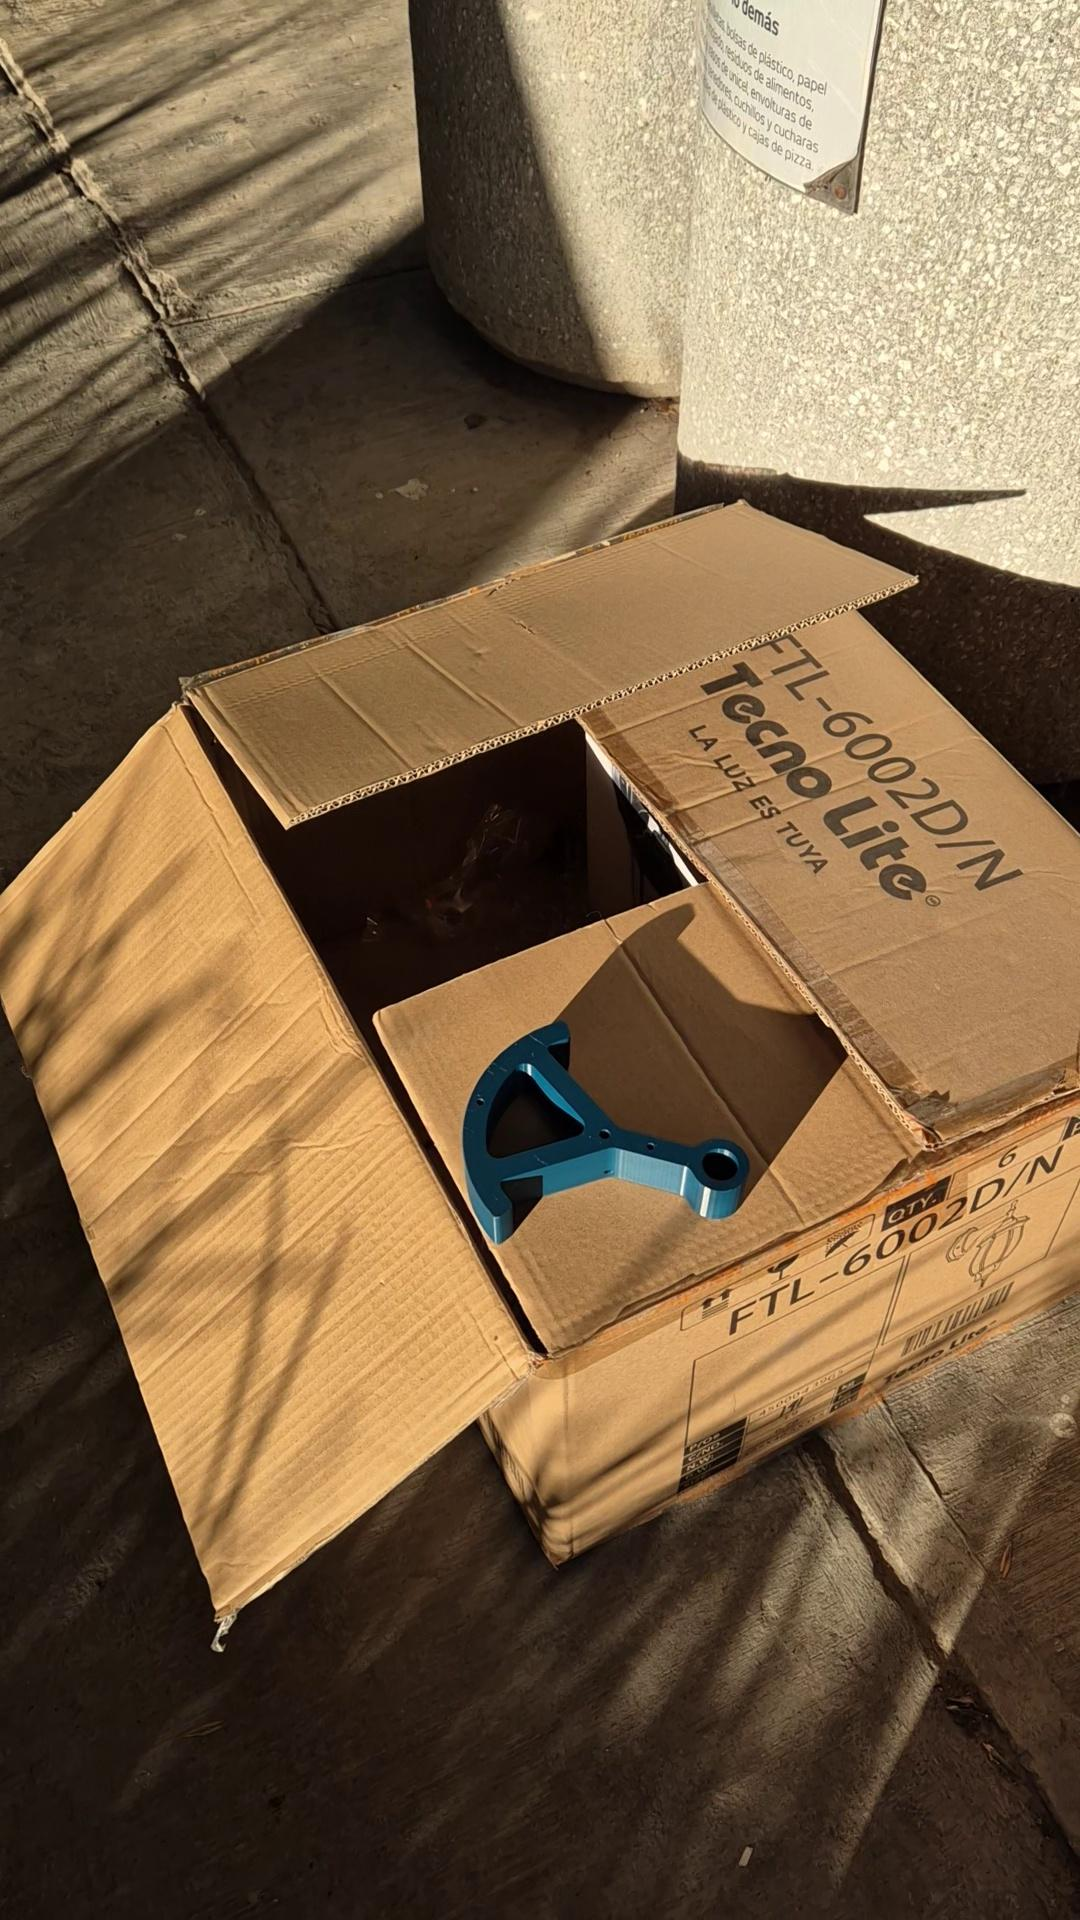Paddles: (459, 1019, 750, 1246)
